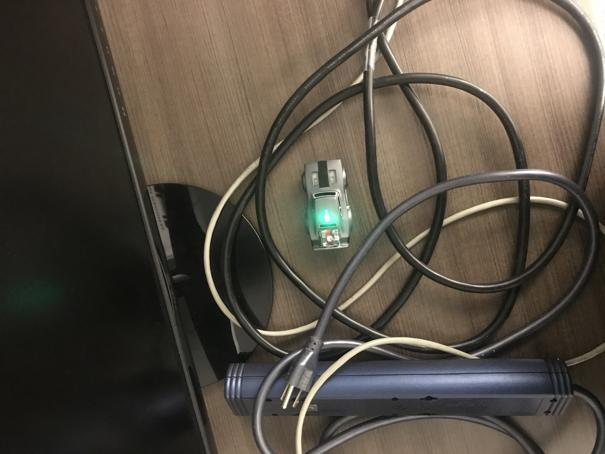Charger: (296, 158, 356, 254)
